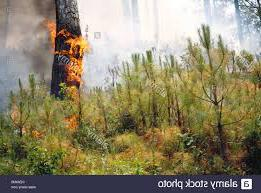fire: (65, 33, 92, 101), (45, 15, 59, 50)
